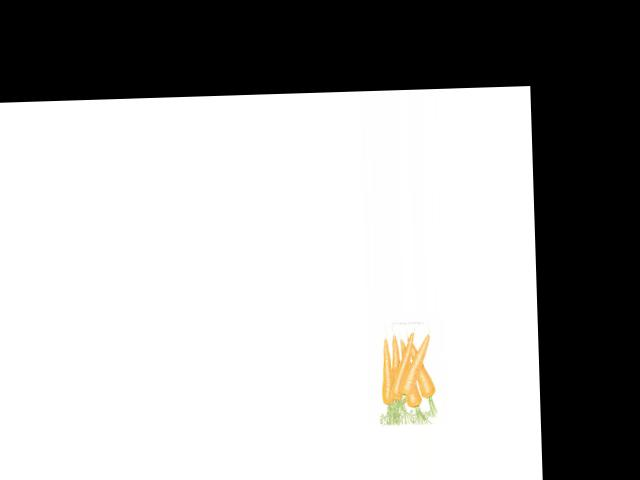carrot: (388, 325, 409, 401)
